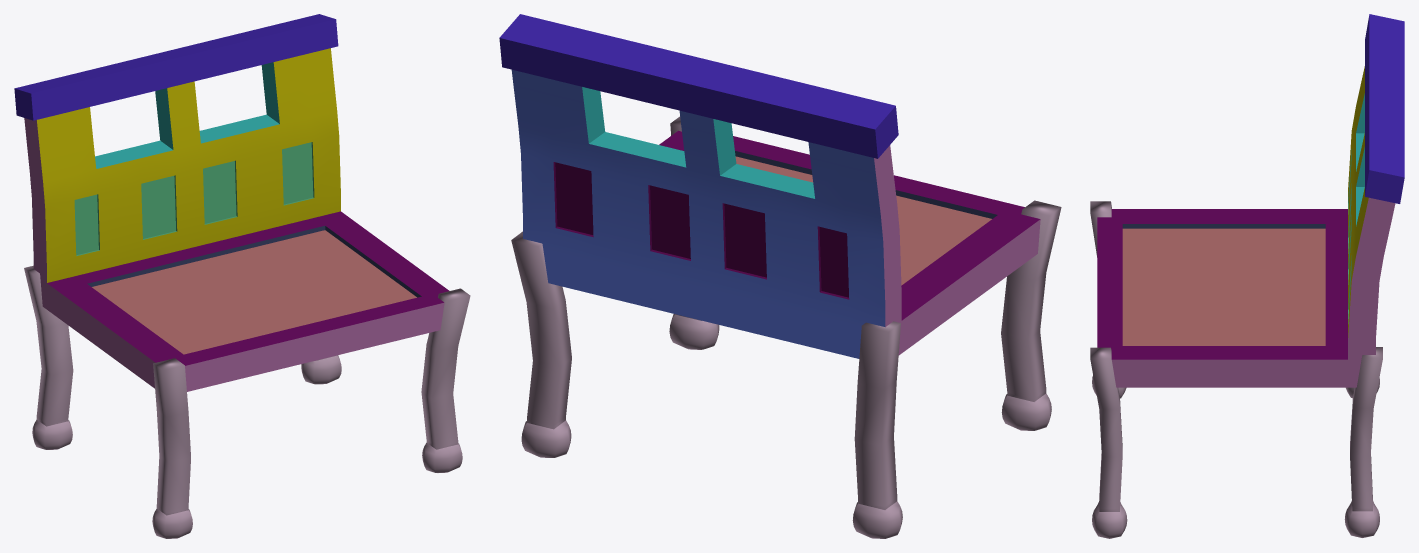
Rendered from chaise02.fbx.
The picture shows the model from 3 angles, left to right: view 1: azimuth 30°, elevation 25°; view 2: azimuth 150°, elevation 25°; view 3: azimuth 270°, elevation 25°; orthographic projection. The views are drawn at different scales.
Visible parts, largest first — view 1: group2_pCube1; view 2: group2_pCube1; view 3: group2_pCube1.
Boxes of the visible parts, box(x1,y1,x2,y2) form: group2_pCube1: box(14, 14, 470, 538); group2_pCube1: box(499, 14, 1061, 538); group2_pCube1: box(1090, 14, 1404, 538).
Size of the model in its own units: 2.51 by 2.78 by 2.12.
